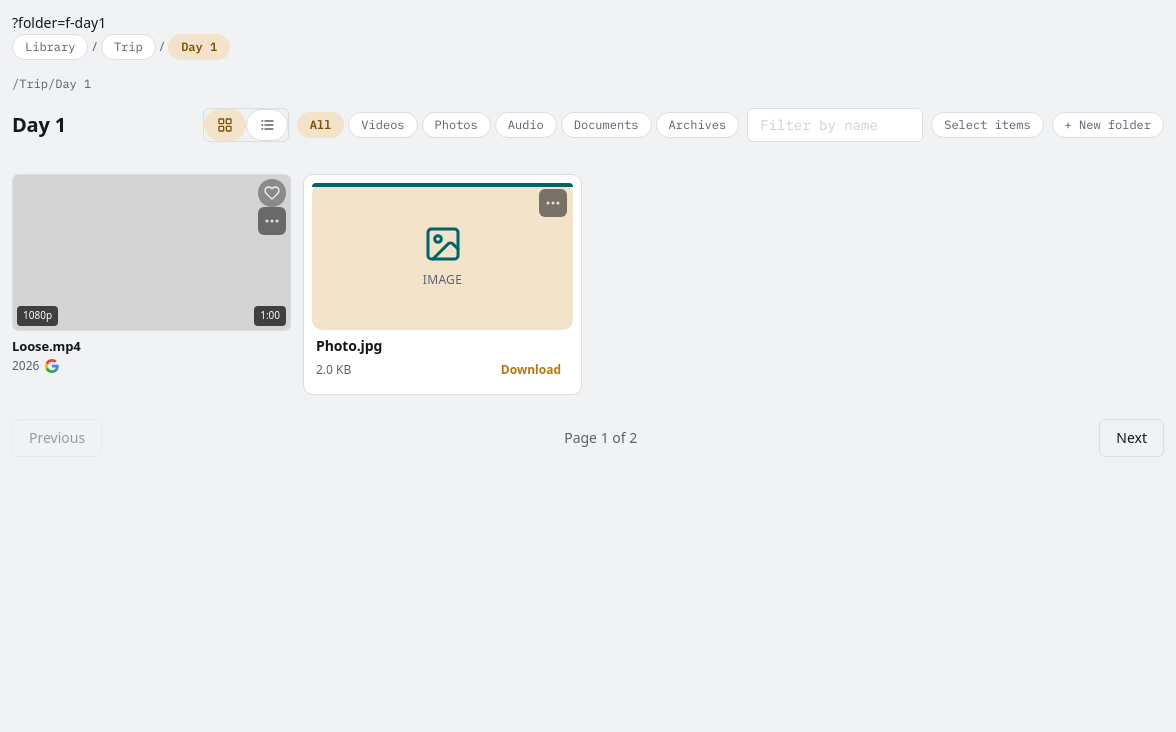
Scenario: FolderOrganizer curated pane › deep links restore the level: breadcrumb trail + folder-scoped contents
Expected: the text "Day 1" is shown, [168,34,230,60]
Expected: the button "Library" is shown, [12,34,88,60]
Note: Breadcrumb tap climbs to Trip.
Click the button "Trip": (128, 47) [101,34,156,60]
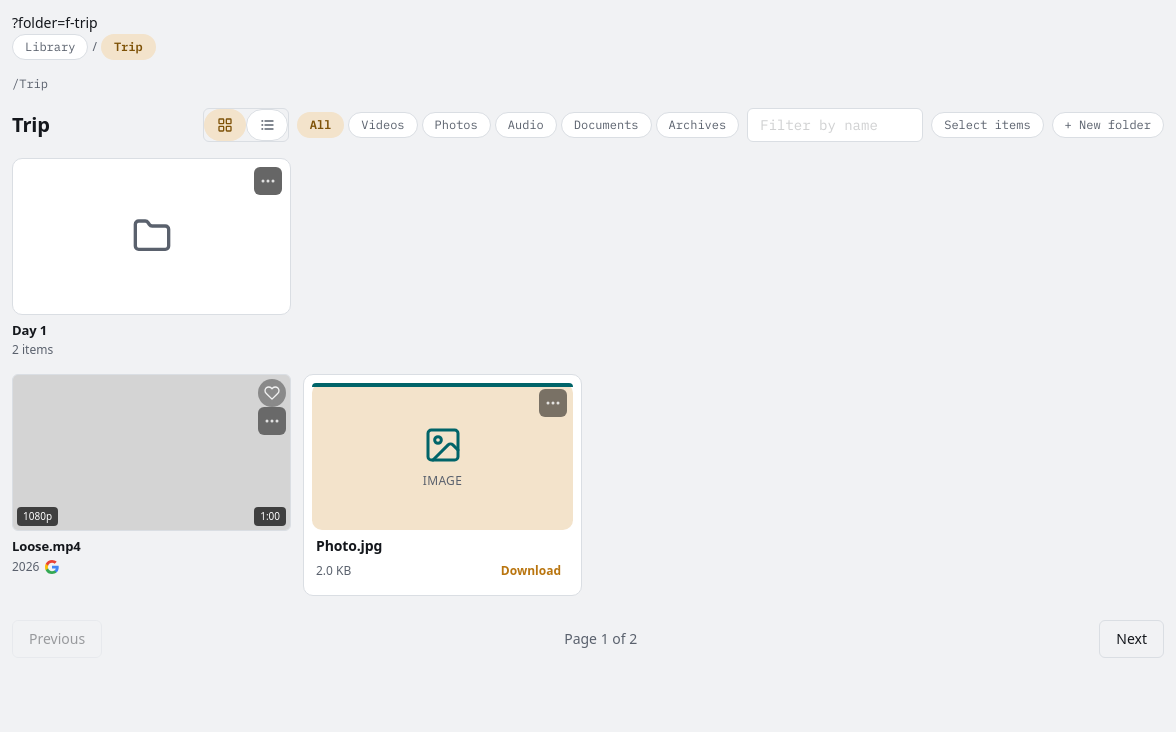
Now the text with test id "location" shows "folder=f-trip", box [12,13,98,32]
